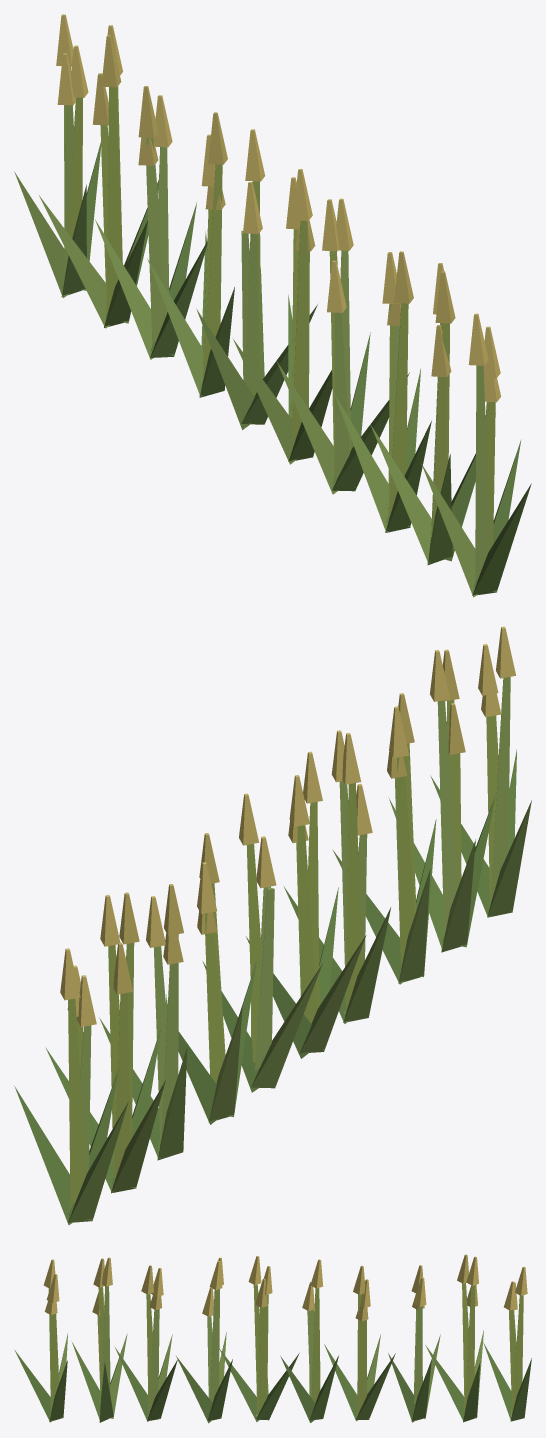
The model's file is cover_barley_row_ripe.glb.
The picture shows the model from 3 angles, top to bottom: view 1: azimuth 30°, elevation 25°; view 2: azimuth 150°, elevation 25°; view 3: azimuth 270°, elevation 25°; orthographic projection. The views are drawn at different scales.
Visible parts, largest first — view 1: cover_barley_row_ripe; view 2: cover_barley_row_ripe; view 3: cover_barley_row_ripe.
Boxes of the visible parts, x1,y1,x2,y2 form: cover_barley_row_ripe: (14,14,531,597); cover_barley_row_ripe: (14,626,531,1224); cover_barley_row_ripe: (14,1254,531,1423).
Bounding box in the file's own units: 0.5539 × 1.26 × 3.59.
